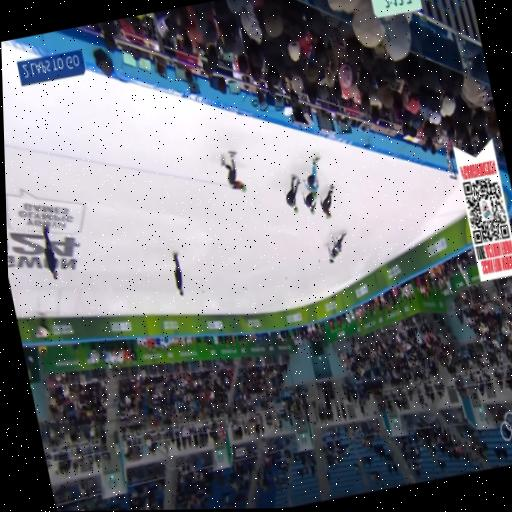Skater: (221, 151, 246, 191), (317, 184, 340, 219), (286, 175, 300, 211), (307, 156, 319, 198), (331, 231, 351, 255), (303, 180, 316, 213), (327, 238, 339, 262)
